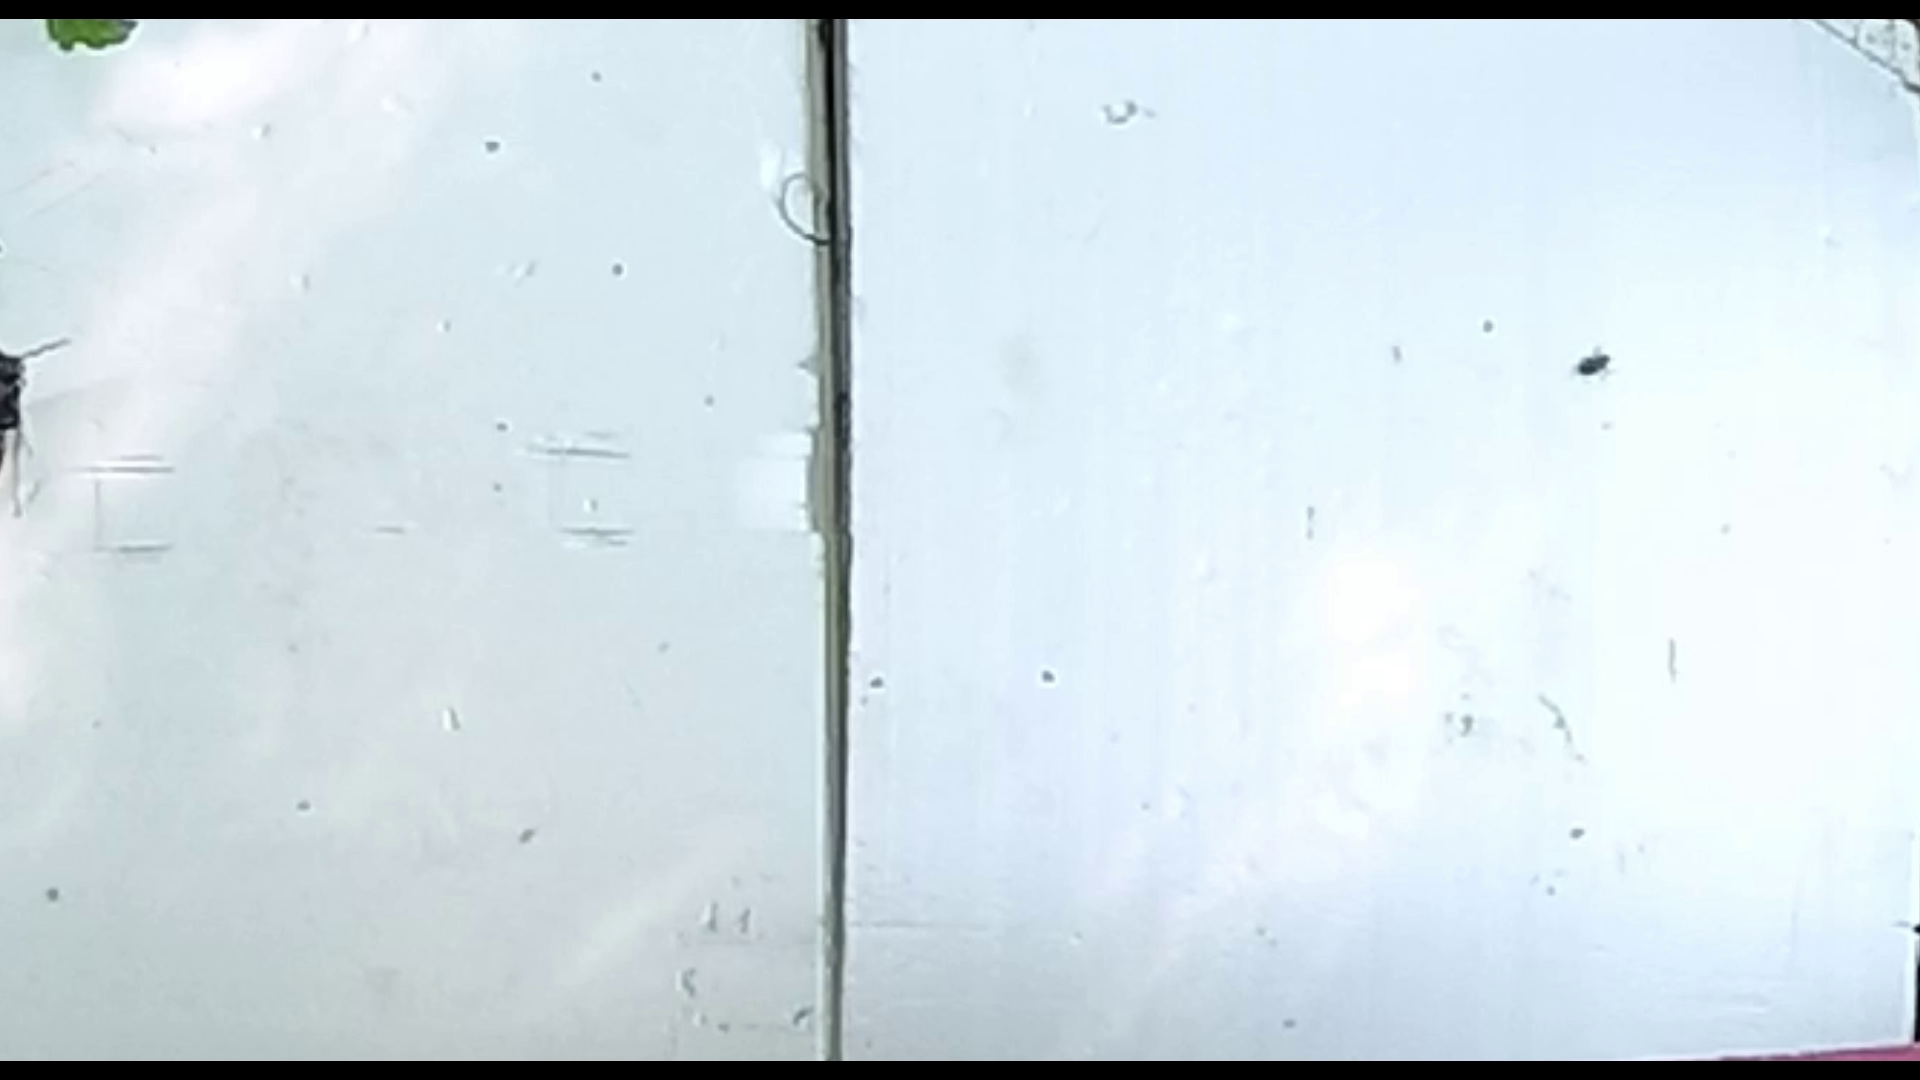Asian_hornets: (0, 323, 98, 538)
